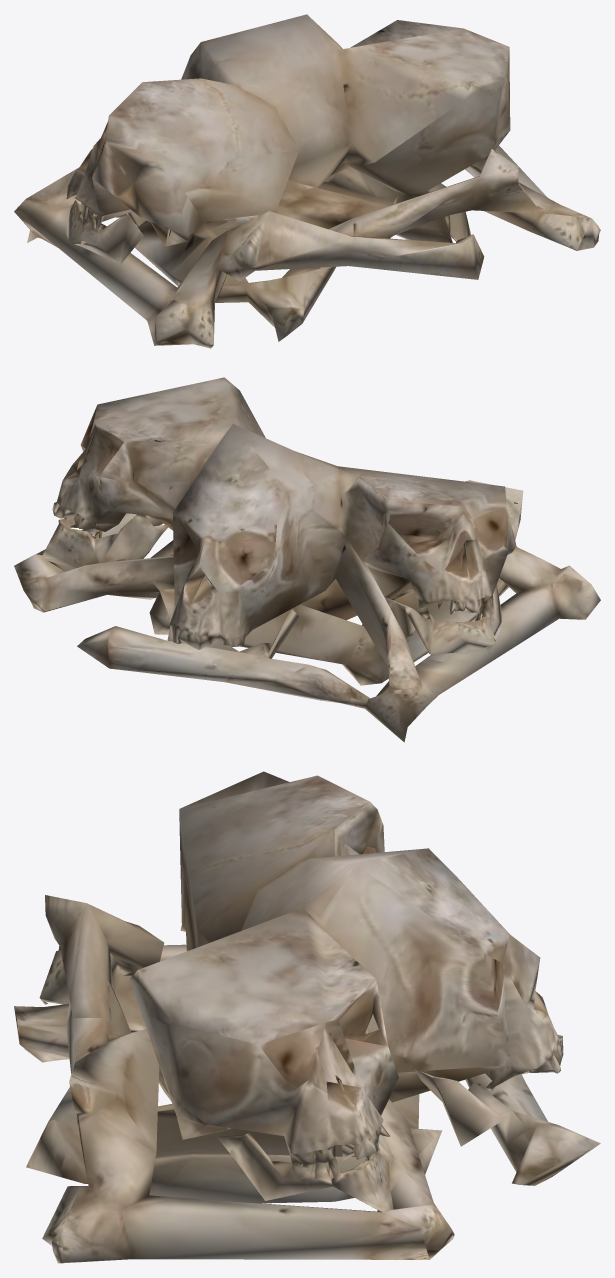
The model's file is bob-piece-bone-pile.glb.
The picture shows the model from 3 angles, top to bottom: view 1: azimuth 30°, elevation 25°; view 2: azimuth 150°, elevation 25°; view 3: azimuth 270°, elevation 25°; orthographic projection. The views are drawn at different scales.
Visible parts, largest first — view 1: model; view 2: model; view 3: model.
Part boxes in pixels (x1=…): model: x1=14, y1=14, x2=600, y2=348; model: x1=14, y1=377, x2=600, y2=742; model: x1=14, y1=771, x2=600, y2=1263.
Bounding box in the file's own units: 0.9696 × 0.4486 × 0.7954.
Materials: 1 (1 with a texture image).
